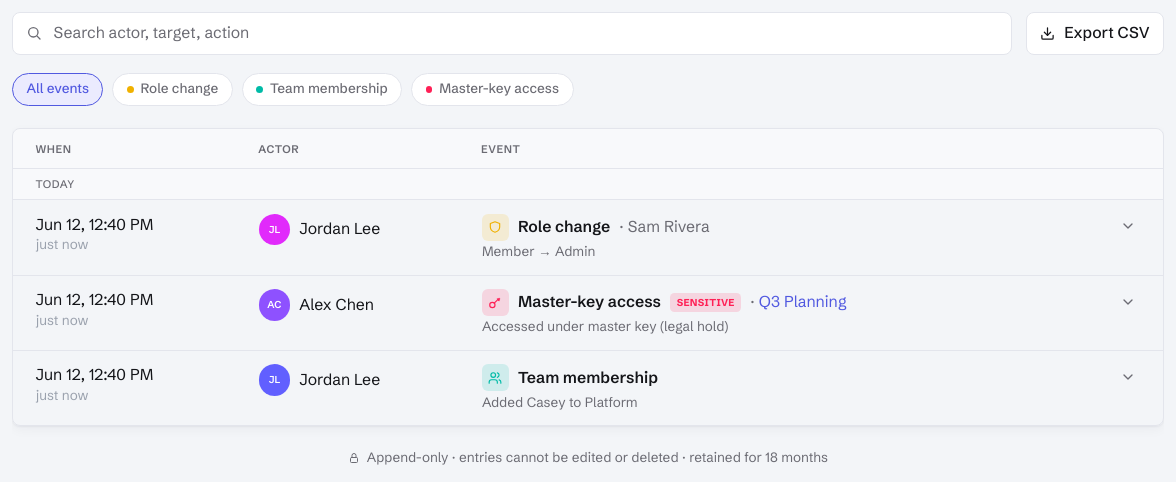
Test: AuditLogClient › filter pills narrow to a category (Role change hides master-key rows)
Click the button "Role change" at (173, 89), box [112,72,233,106]
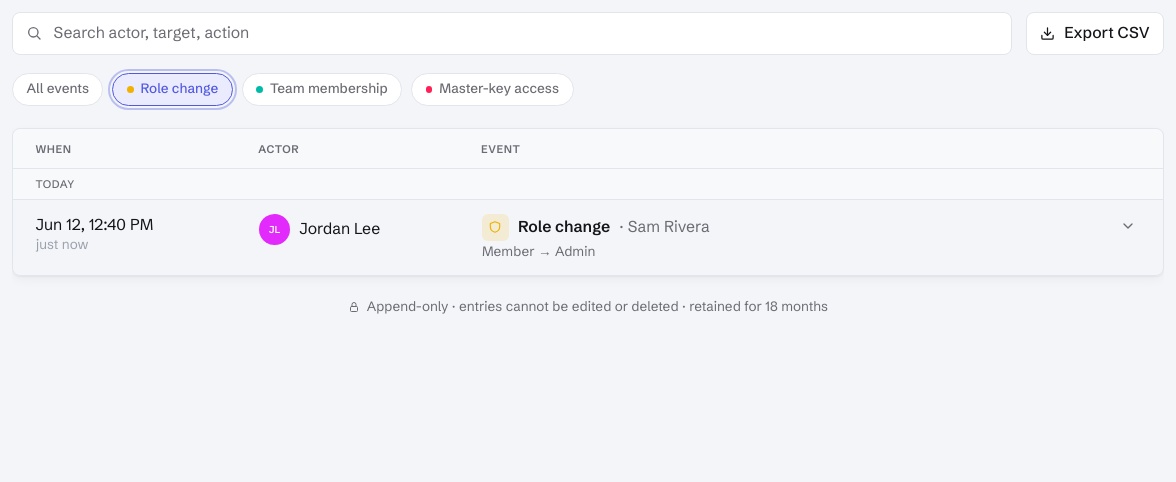
Check: the number of list items is 1, box [13,200,1163,275]
Check: the text "Accessed under master key (legal hold)" is gone
Check: the text "Added Casey to Platform" is gone
